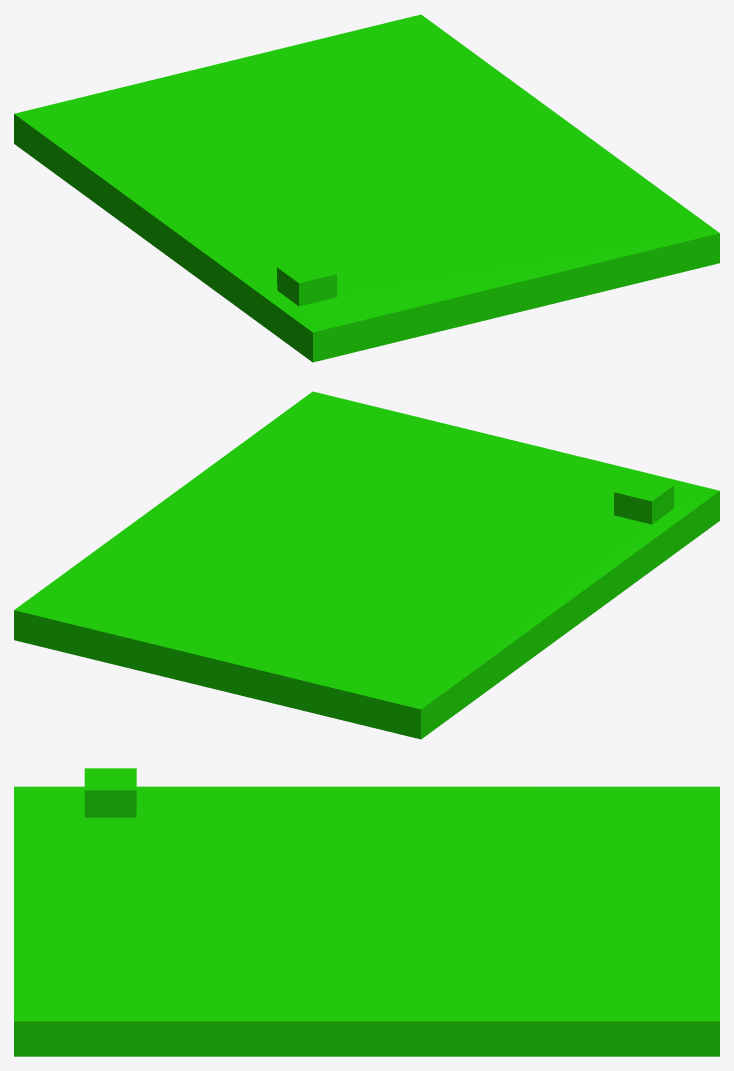
File: SM_Shelf_06_Door_02_Collider.fbx
3 views of the same model, one above another, from view 1: azimuth 30°, elevation 25°; view 2: azimuth 150°, elevation 25°; view 3: azimuth 270°, elevation 25° (orthographic). The views are drawn at different scales.
Visible parts, largest first — view 1: SM_Shelf_06_Door_02_Collider; view 2: SM_Shelf_06_Door_02_Collider; view 3: SM_Shelf_06_Door_02_Collider.
Part boxes in pixels (x1,y1,x2,y2): SM_Shelf_06_Door_02_Collider: (14,14,719,362); SM_Shelf_06_Door_02_Collider: (14,391,719,739); SM_Shelf_06_Door_02_Collider: (14,768,719,1056).
Size of the model in its own units: 66.48 by 8.32 by 84.52.
